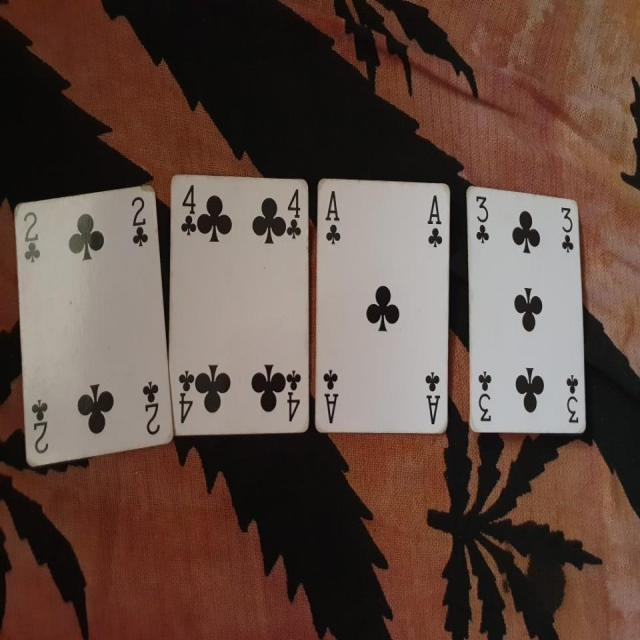2 Trefoils: (11, 184, 174, 469)
3 Trefoils: (465, 185, 589, 436)
4 Trefoils: (169, 173, 311, 434)
A Trefoils: (314, 178, 452, 436)
